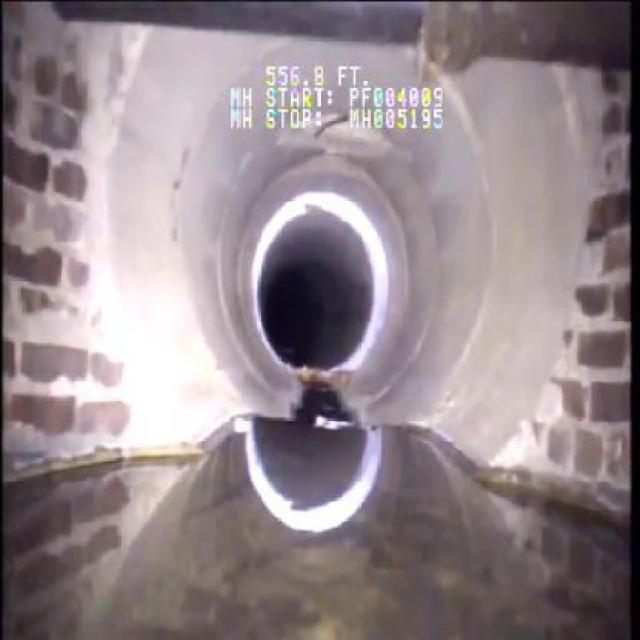Utility intrusion: (51, 6, 637, 65)
